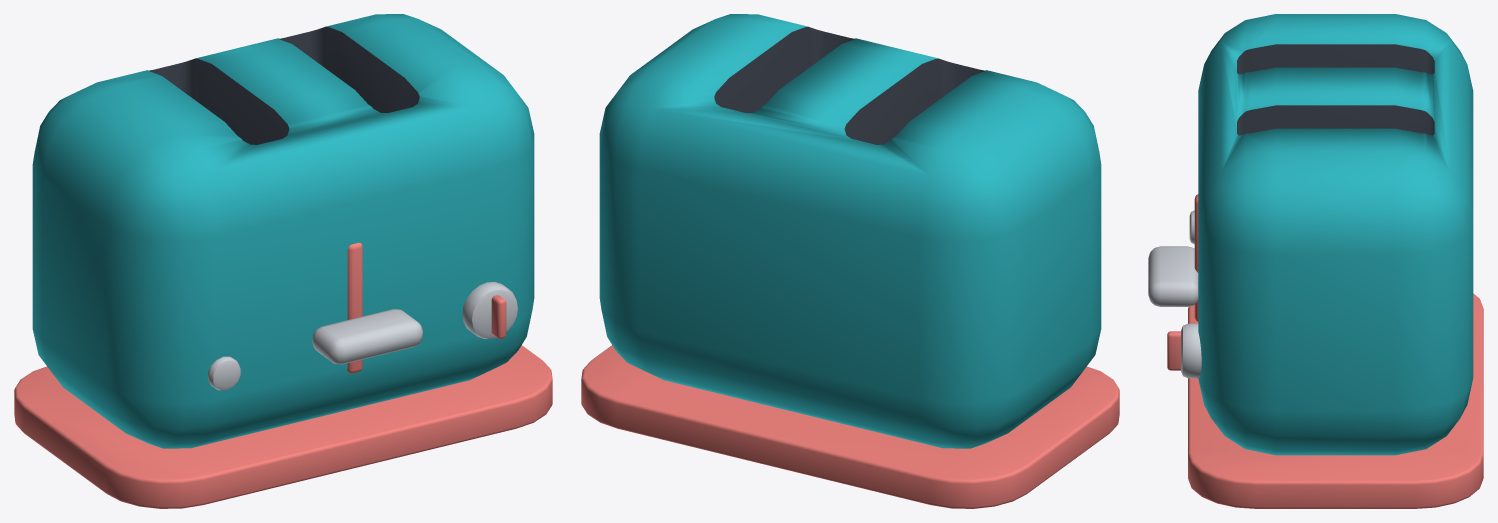
The model's file is torradeira_turquesa.glb.
The picture shows the model from 3 angles, left to right: view 1: azimuth 30°, elevation 25°; view 2: azimuth 150°, elevation 25°; view 3: azimuth 270°, elevation 25°; orthographic projection. The views are drawn at different scales.
Parts seen in each view (by area): view 1: torradeira_turquesa; view 2: torradeira_turquesa; view 3: torradeira_turquesa.
Boxes of the visible parts, x1,y1,x2,y2 form: torradeira_turquesa: (14,14,552,508); torradeira_turquesa: (581,14,1119,508); torradeira_turquesa: (1148,14,1483,508).
Bounding box in the file's own units: 0.282 × 0.206 × 0.195.
Materials: 1 (1 with a texture image).
